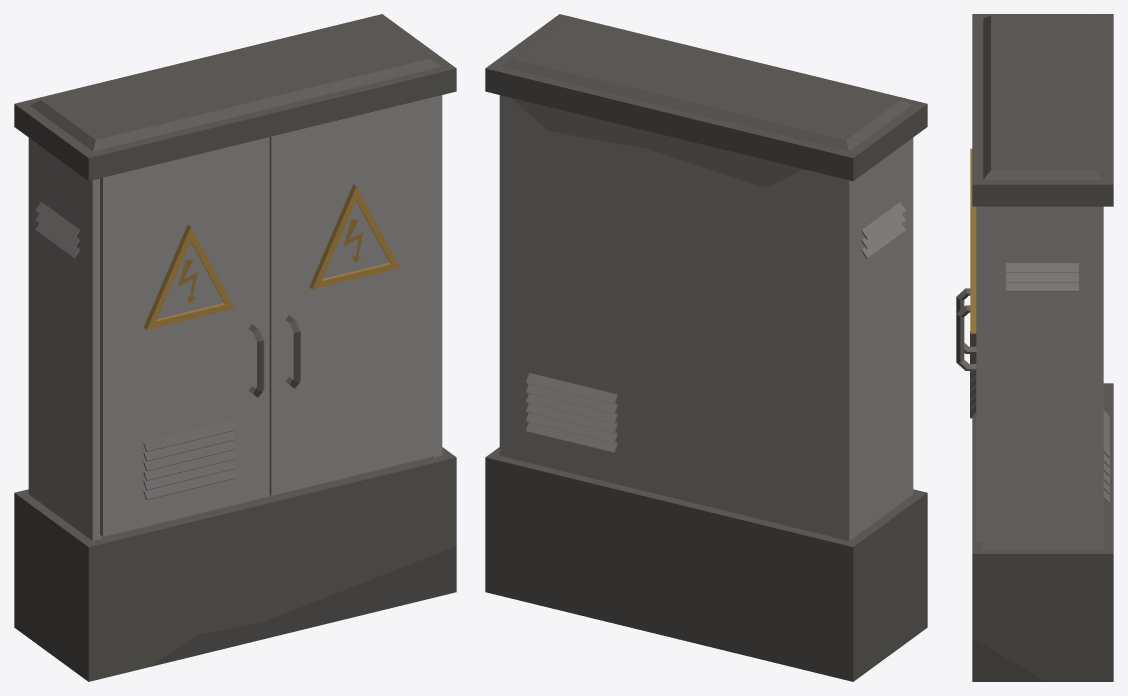
The model's file is SM_Props_Roof_ElectricBox.fbx.
The picture shows the model from 3 angles, left to right: view 1: azimuth 30°, elevation 25°; view 2: azimuth 150°, elevation 25°; view 3: azimuth 270°, elevation 25°; orthographic projection. The views are drawn at different scales.
Visible parts, largest first — view 1: SM_Props_Roof_ElectricBox; view 2: SM_Props_Roof_ElectricBox; view 3: SM_Props_Roof_ElectricBox.
Boxes of the visible parts, bbox=[...] form: SM_Props_Roof_ElectricBox: bbox=[14, 14, 456, 681]; SM_Props_Roof_ElectricBox: bbox=[485, 14, 927, 681]; SM_Props_Roof_ElectricBox: bbox=[956, 14, 1113, 681].
Bounding box in the file's own units: 165 × 227 × 64.35.
